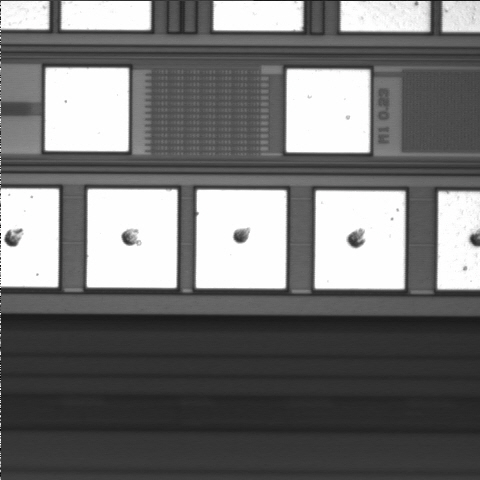pad: (87, 189, 177, 288), (196, 190, 286, 288), (315, 191, 405, 289), (45, 68, 129, 151), (286, 69, 370, 152)
